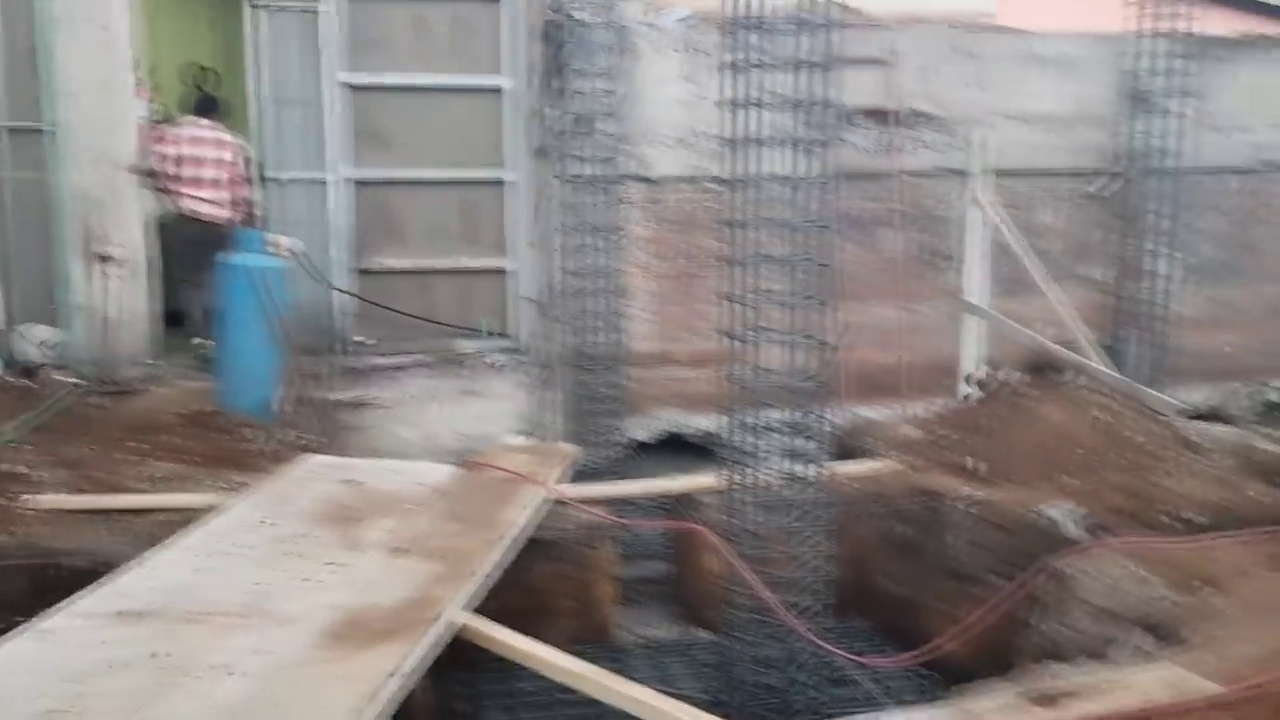helmet-off: (174, 84, 226, 136)
person: (144, 78, 255, 359)
